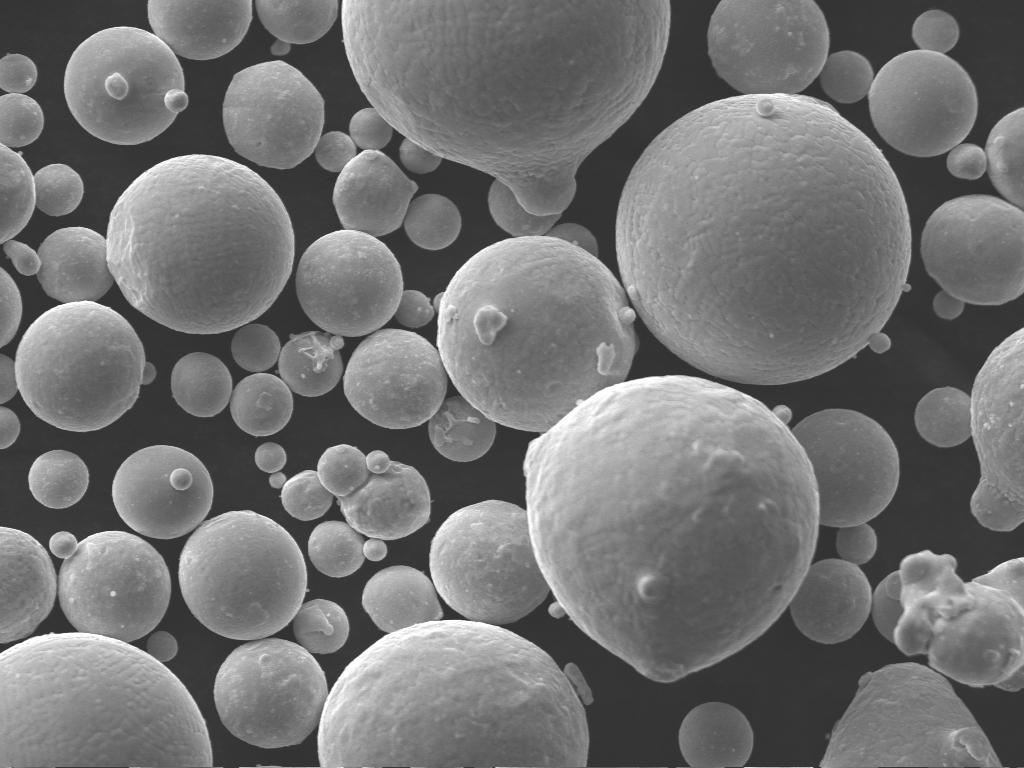Powder: (524, 376, 820, 682), (616, 94, 912, 383), (342, 0, 670, 216), (318, 622, 592, 766), (438, 236, 636, 431), (108, 154, 294, 334), (0, 632, 212, 766), (872, 550, 1024, 689), (820, 662, 1000, 766), (14, 302, 156, 431), (180, 510, 308, 640), (868, 10, 978, 157), (430, 500, 550, 625), (64, 28, 188, 144), (50, 532, 170, 642), (920, 194, 1024, 319), (792, 410, 900, 528), (214, 638, 328, 748), (708, 0, 830, 94), (296, 230, 402, 336), (970, 328, 1024, 530), (222, 62, 324, 167), (318, 444, 430, 539), (344, 328, 448, 429), (112, 446, 214, 539), (4, 226, 114, 302), (1, 144, 82, 243), (946, 108, 1024, 209), (332, 150, 418, 235), (790, 558, 872, 644), (0, 526, 56, 643), (148, 0, 252, 60), (362, 566, 442, 632), (678, 702, 754, 766), (256, 0, 338, 56), (428, 396, 496, 462), (308, 522, 388, 578), (278, 332, 344, 396), (230, 372, 294, 436), (488, 180, 560, 236), (170, 352, 232, 417), (914, 386, 972, 448), (28, 450, 88, 508), (404, 196, 462, 250), (292, 600, 348, 654), (820, 50, 874, 103), (282, 470, 334, 520), (0, 94, 44, 148), (232, 324, 280, 372), (0, 268, 22, 347), (350, 108, 392, 149), (546, 224, 598, 257), (836, 524, 878, 564), (314, 132, 356, 171), (394, 290, 434, 328), (400, 138, 442, 174), (0, 54, 36, 93), (254, 442, 286, 473), (146, 632, 178, 662), (0, 354, 18, 403), (0, 406, 20, 449), (268, 472, 286, 489)
